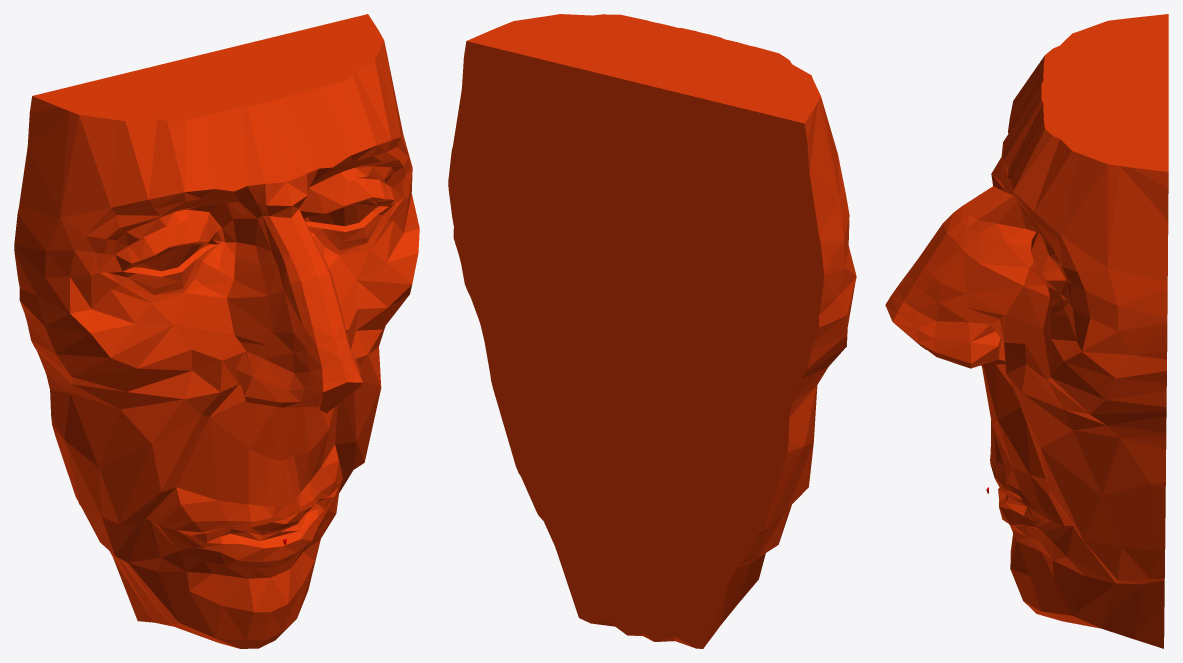
The model's file is yona-expressions.glb.
3 views of the same model, side by side, from view 1: azimuth 30°, elevation 25°; view 2: azimuth 150°, elevation 25°; view 3: azimuth 270°, elevation 25° (orthographic). The views are drawn at different scales.
Parts seen in each view (by area): view 1: face.001; view 2: face.001; view 3: face.001.
Boxes of the visible parts, x1,y1,x2,y2 form: face.001: [14, 14, 419, 648]; face.001: [448, 14, 856, 648]; face.001: [885, 14, 1168, 648].
Size of the model in its own units: 9.12 by 12.96 by 6.22.
